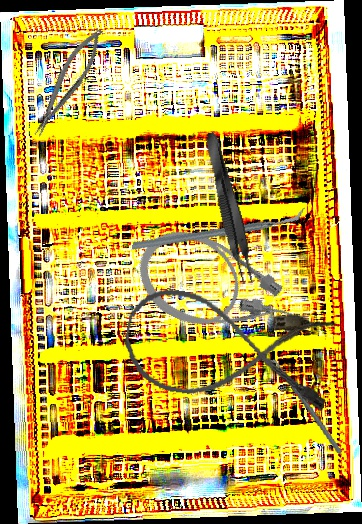Cannula: (117, 282, 340, 419), (123, 214, 310, 368)
Chopper: (131, 169, 305, 289), (266, 346, 343, 465)
Needle Holder: (23, 23, 112, 141)
Tissue Forceps: (200, 130, 259, 286)
